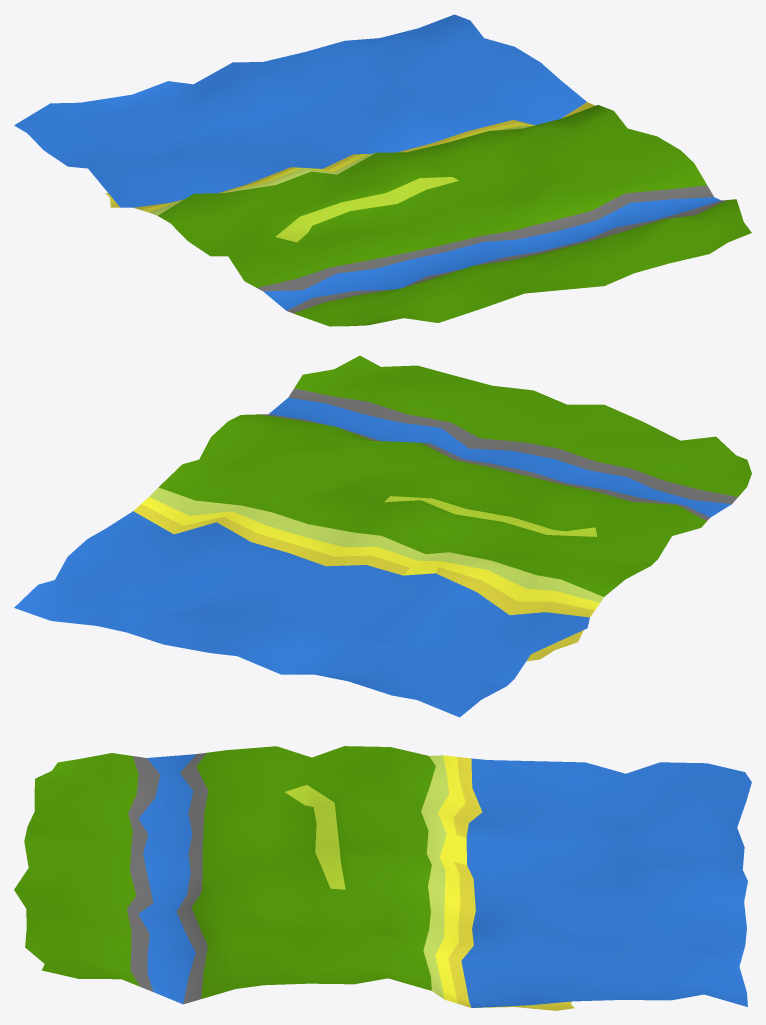
Rendered from Mapa.fbx.
3 renders of one model, top to bottom at view 1: azimuth 30°, elevation 25°; view 2: azimuth 150°, elevation 25°; view 3: azimuth 270°, elevation 25°, orthographic. The views are drawn at different scales.
Parts seen in each view (by area): view 1: Plane.001; view 2: Plane.001; view 3: Plane.001.
Part boxes in pixels (left/top/right/bottom): Plane.001: left=14, top=14, right=751, bottom=326; Plane.001: left=14, top=355, right=751, bottom=717; Plane.001: left=14, top=746, right=751, bottom=1010.
Size of the model in its own units: 70662 by 7775 by 89280.
